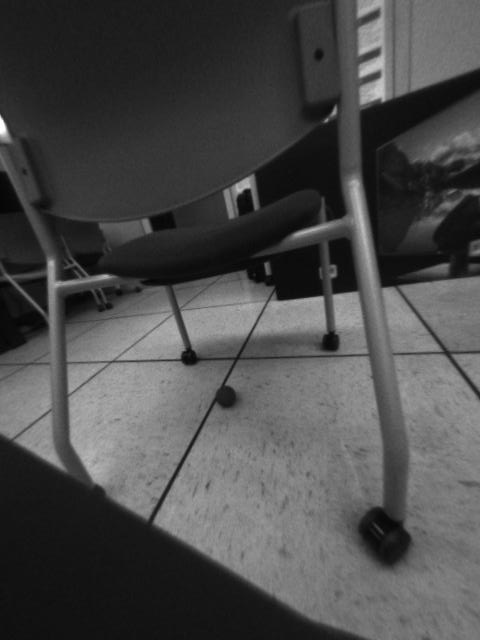dogtoy: (208, 379, 243, 411)
